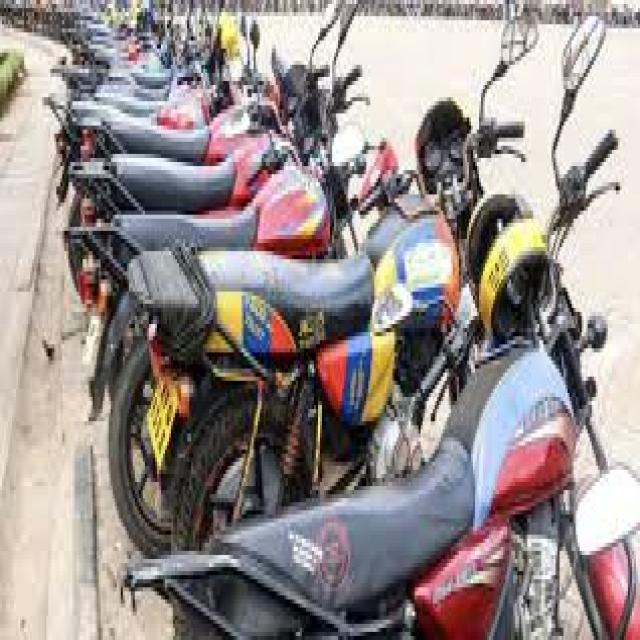bodaboda: (76, 20, 640, 636), (170, 25, 175, 34)
